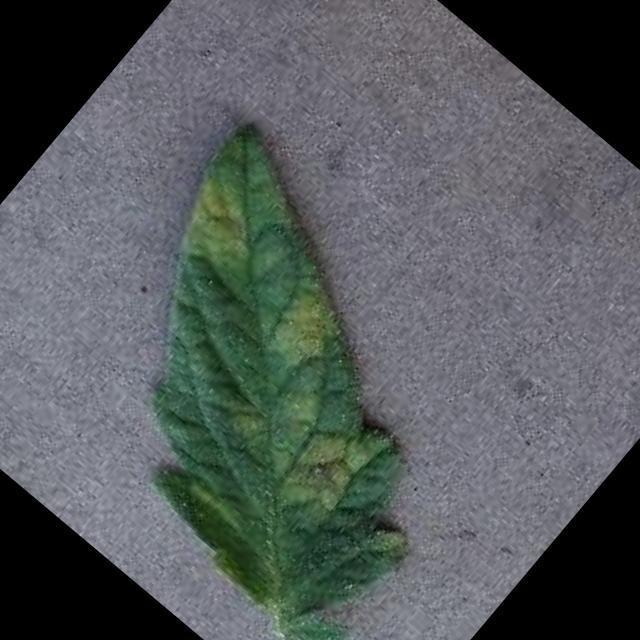Tomato mold leaf: (5, 111, 561, 640)
